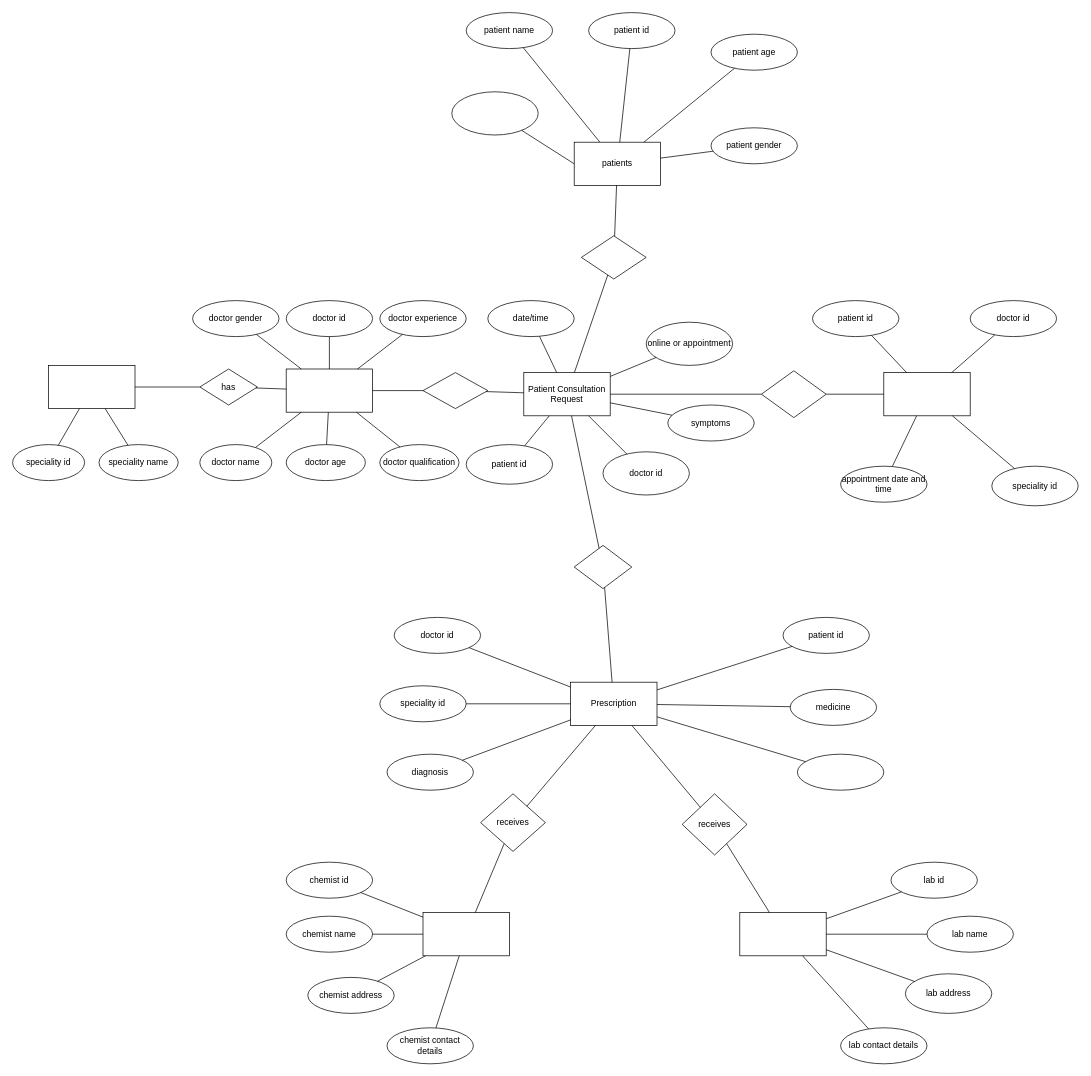
Image size: 1091x1076. Some labels were removed from this diagram. Each missing label, with the box of its shape:
Chemist: (422, 912, 509, 956)
contains: (761, 370, 826, 418)
Doctors: (285, 368, 373, 412)
generates: (573, 545, 632, 589)
Lab: (739, 912, 826, 956)
lab request: (797, 753, 884, 790)
Patient Appointment File: (883, 372, 970, 416)
patient contact details: (451, 91, 538, 135)
provides consultation: (422, 372, 488, 409)
request: (581, 235, 646, 279)
Speciality: (48, 365, 135, 409)
